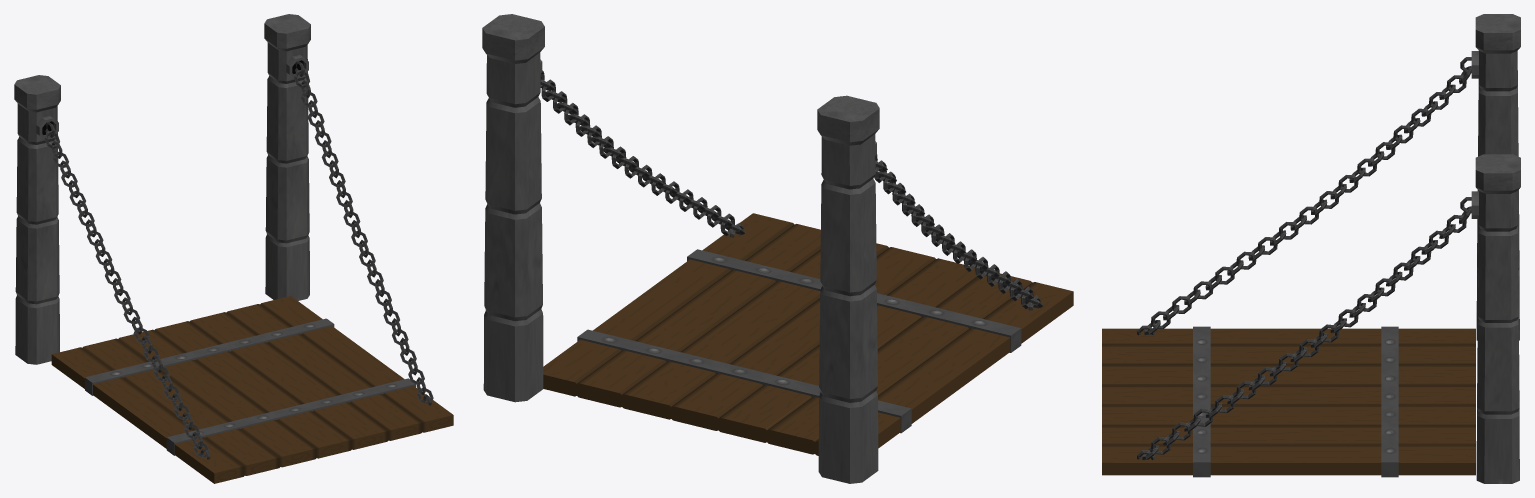
Rendered from Plataforma Puente.fbx.
The picture shows the model from 3 angles, left to right: view 1: azimuth 30°, elevation 25°; view 2: azimuth 150°, elevation 25°; view 3: azimuth 270°, elevation 25°; orthographic projection. The views are drawn at different scales.
Visible parts, largest first — view 1: Puente.004, Torre.004, Torre2.004, Torus.327, Torus.292, Metal Puente.004, Metal Puente 2.004; view 2: Puente.004, Torre.004, Torre2.004, Torus.327, Metal Puente 2.004, Metal Puente.004, Torus.292; view 3: Puente.004, Torre2.004, Torre.004, Torus.292, Torus.327, Metal Puente.004, Metal Puente 2.004.
Boxes of the visible parts, x1,y1,x2,y2 form: Puente.004: (51,296,453,483); Torre.004: (14,75,60,364); Torre2.004: (264,14,310,300); Torus.327: (294,61,433,405); Torus.292: (44,122,210,459); Metal Puente.004: (85,318,334,395); Metal Puente 2.004: (166,378,415,455); Puente.004: (543,213,1073,455); Torre.004: (817,95,879,483); Torre2.004: (482,14,544,402); Torus.327: (540,70,745,237); Metal Puente 2.004: (687,249,1021,352); Metal Puente.004: (577,329,911,433); Torus.292: (874,154,1043,310); Puente.004: (1102,328,1475,475); Torre2.004: (1475,154,1520,483); Torre.004: (1475,14,1520,340); Torus.292: (1136,57,1471,335); Torus.327: (1137,197,1471,460); Metal Puente.004: (1381,326,1398,477); Metal Puente 2.004: (1193,326,1210,477).
Bounding box in the file's own units: 1006 × 930 × 1117.
